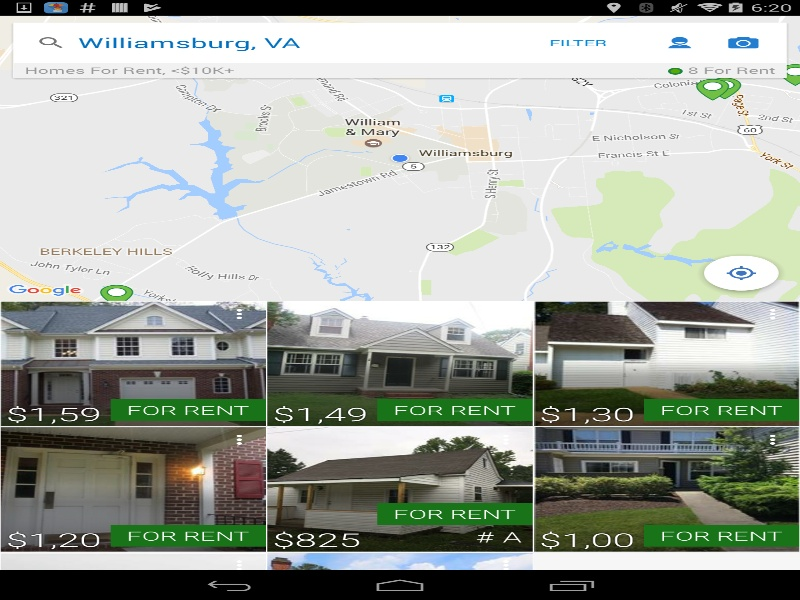Button: (688, 244, 794, 301), (519, 22, 636, 62)
Input: (78, 22, 508, 62)
